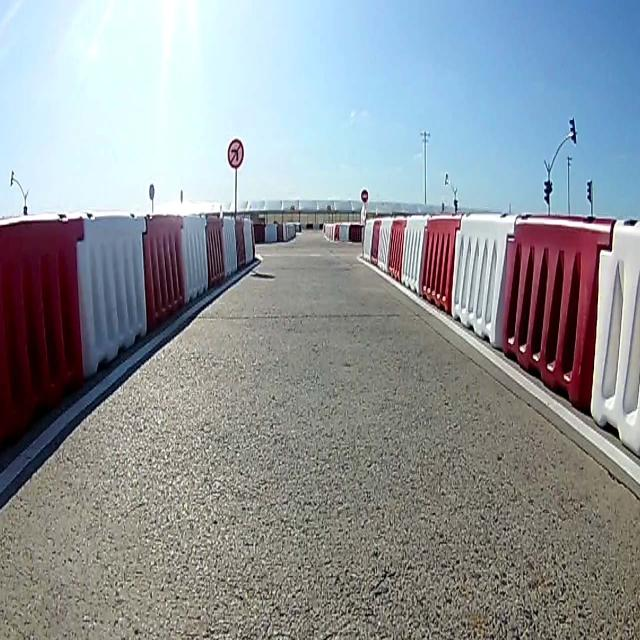girisyok: (362, 188, 368, 200)
soladonulmez: (228, 136, 244, 166)
